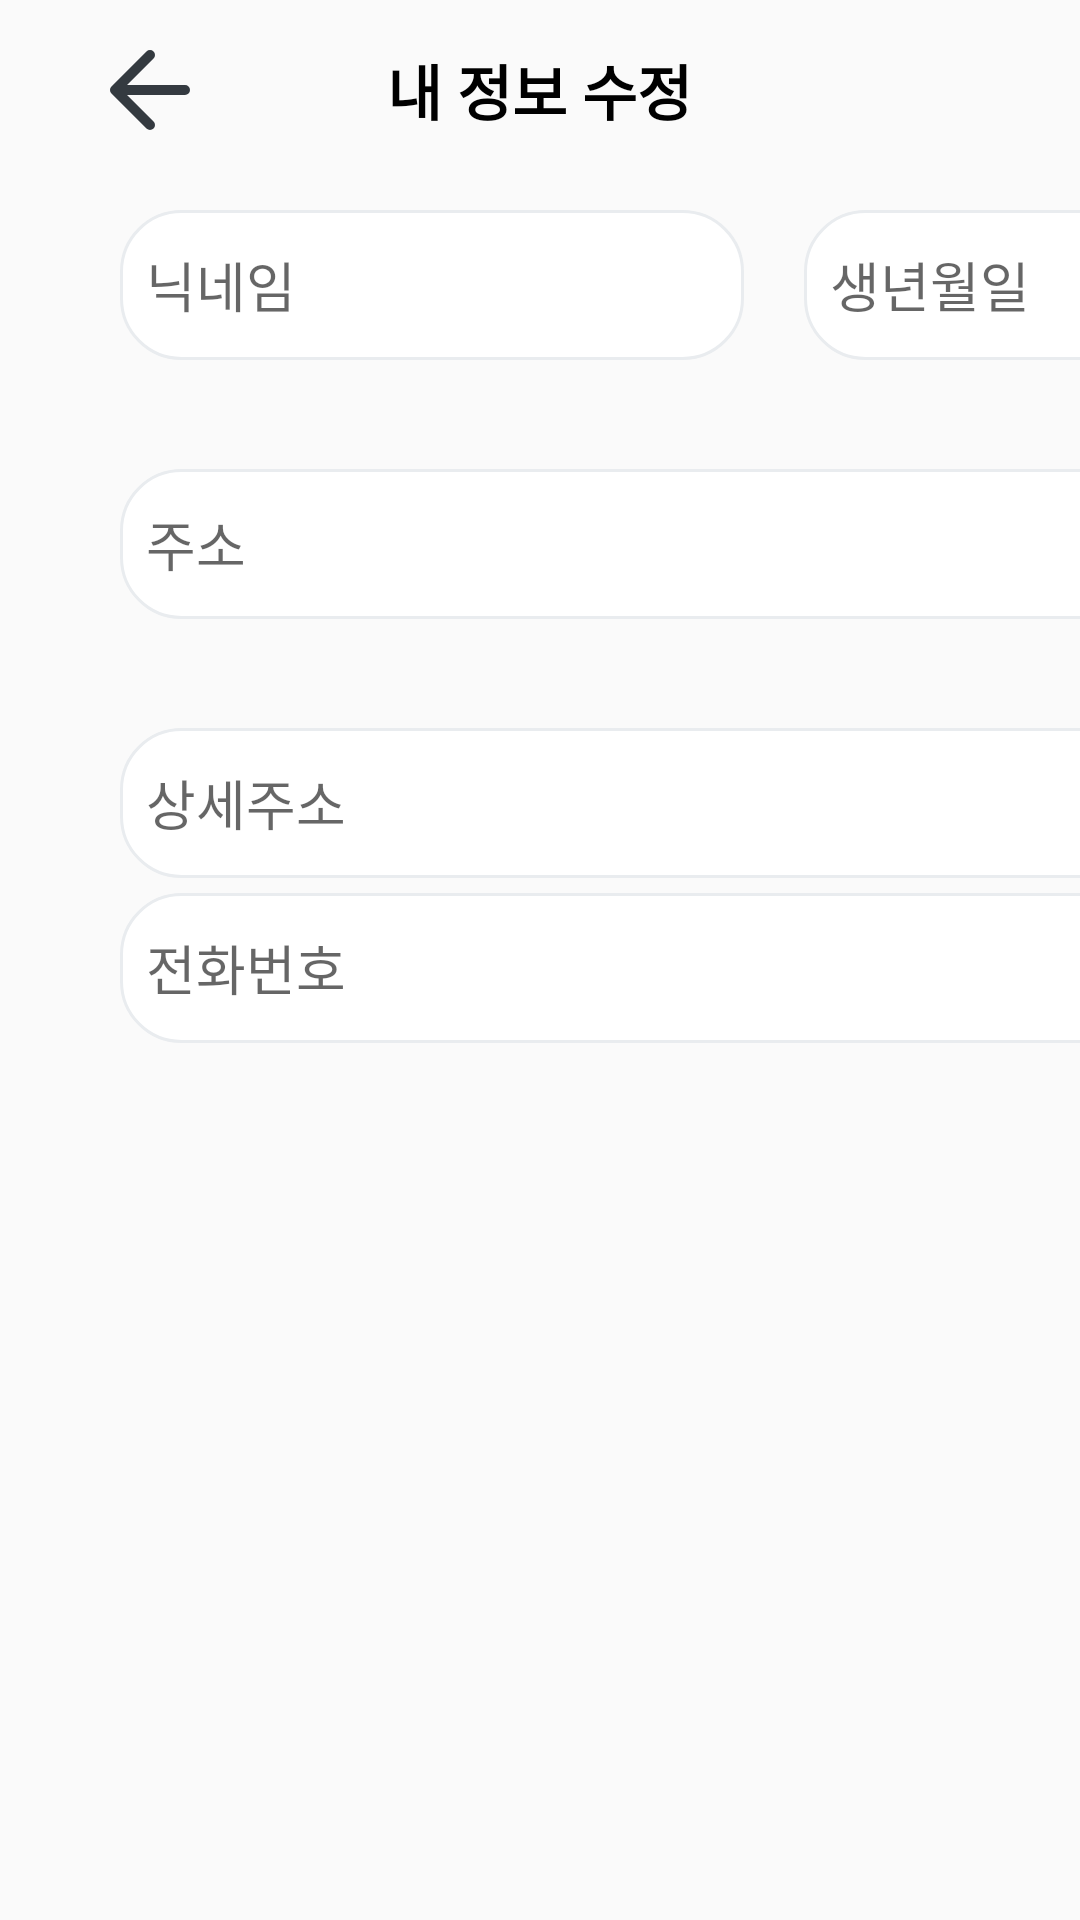

Icons on this 1080px x 1920px Android screen, each with its box as bbox(x1, y1, x2, y2):
left: bbox(110, 50, 190, 130)
